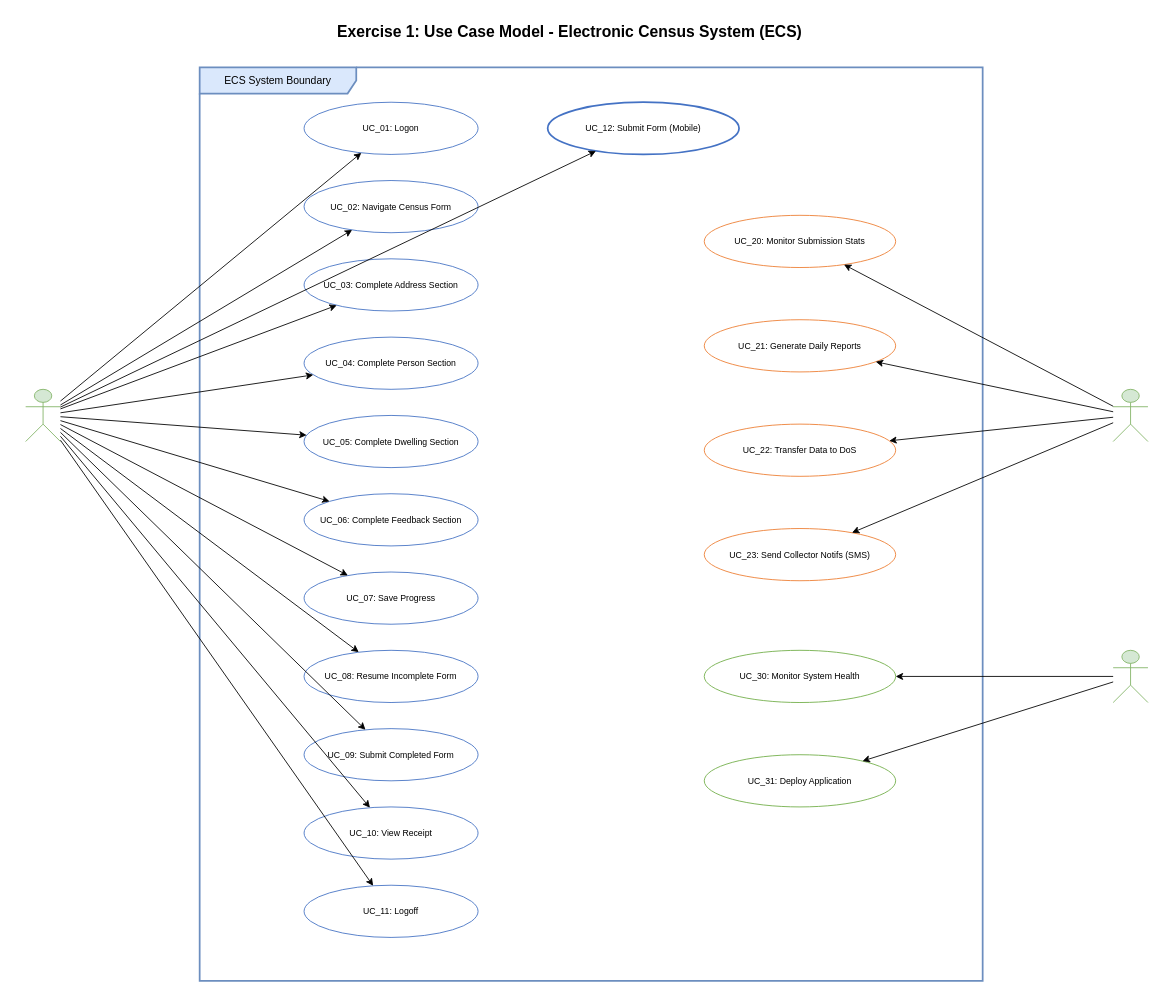
Some shapes in this 1176 by 996 pixel diagram are drawn without their labels. Here are the shapes that lost their labels. From the top down, the centre of each, then its label:
the point at 42,415: Respondent
the point at 1130,415: DoS Admin
the point at 1130,676: Support Staff
